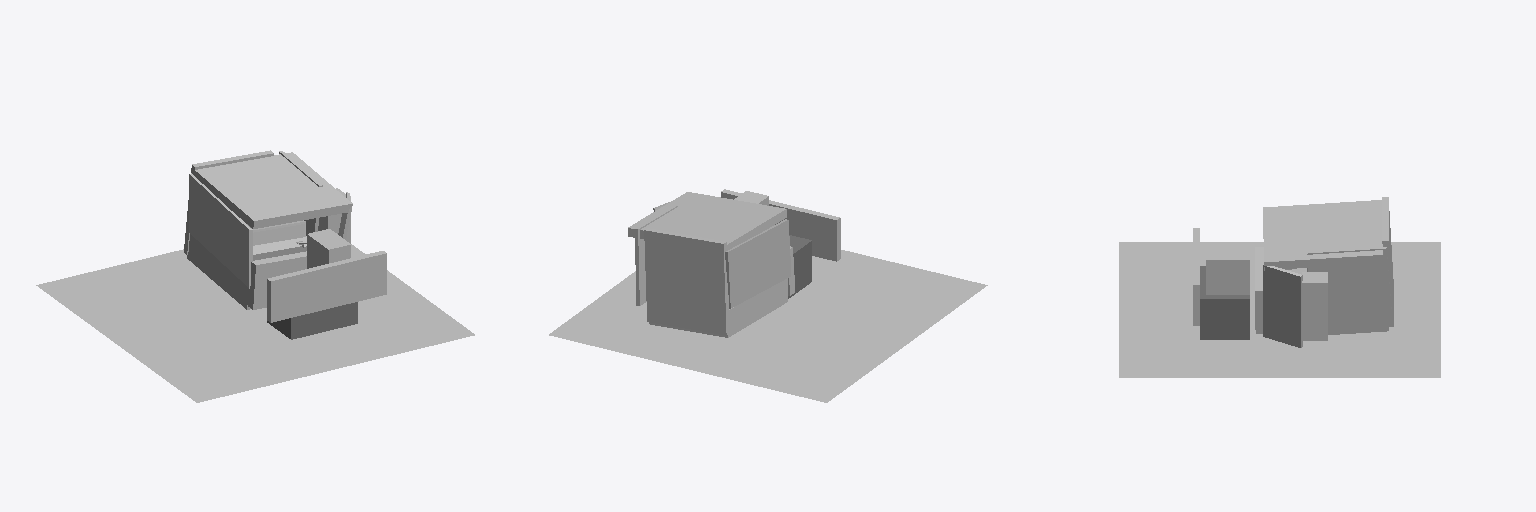
File: truck_simple_09_up.obj
The picture shows the model from 3 angles: view 1: azimuth 30°, elevation 25°; view 2: azimuth 150°, elevation 25°; view 3: azimuth 270°, elevation 25°; orthographic projection.
Visible parts, largest first — view 1: Plane.003, Cube.068, Cube.000_Cube.039, Cube.053, Cube.001_Cube.012, Cube.001_Cube.001, Cube.064, Cube.012_Cube.040, Cube.059, Plane.002, Cube.066; view 2: Plane.003, Cube.066, Cube.068, Cube.053, Cube.000_Cube.039, Cube.064, Cube.001_Cube.012, Cube.063; view 3: Plane.003, Cube.068, Cube.063, Cube.071, Cube.001_Cube.012, Cube.012_Cube.040, Cube.043, Cube.066, Cube.064, Cube.001_Cube.001, Cube.000_Cube.039.
Boxes of the visible parts, x1,y1,x2,y2 form: Plane.003: [36, 244, 474, 402]; Cube.068: [194, 152, 352, 228]; Cube.000_Cube.039: [267, 251, 386, 322]; Cube.053: [189, 173, 252, 288]; Cube.001_Cube.012: [267, 302, 357, 339]; Cube.001_Cube.001: [248, 251, 306, 309]; Cube.064: [187, 234, 250, 309]; Cube.012_Cube.040: [307, 229, 350, 268]; Cube.059: [253, 236, 306, 260]; Plane.002: [253, 224, 304, 245]; Cube.066: [184, 150, 273, 254]; Plane.003: [549, 250, 987, 402]; Cube.066: [644, 228, 729, 335]; Cube.068: [628, 192, 786, 250]; Cube.053: [725, 219, 790, 308]; Cube.000_Cube.039: [721, 189, 840, 261]; Cube.064: [649, 278, 787, 337]; Cube.001_Cube.012: [788, 235, 811, 298]; Cube.063: [635, 205, 677, 305]; Plane.003: [1119, 242, 1440, 377]; Cube.068: [1263, 200, 1383, 270]; Cube.063: [1307, 247, 1391, 323]; Cube.071: [1263, 264, 1302, 347]; Cube.001_Cube.012: [1200, 266, 1249, 339]; Cube.012_Cube.040: [1206, 249, 1249, 294]; Cube.043: [1302, 272, 1327, 340]; Cube.066: [1382, 197, 1393, 326]; Cube.064: [1288, 270, 1388, 334]; Cube.001_Cube.001: [1255, 247, 1263, 333]; Cube.000_Cube.039: [1193, 228, 1199, 325].
Bounding box in the file's own units: 7.69 × 2.86 × 7.69.